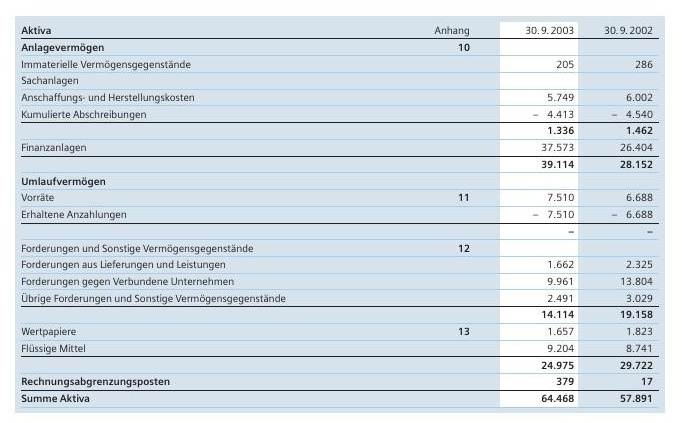table: (0, 0, 682, 423)
